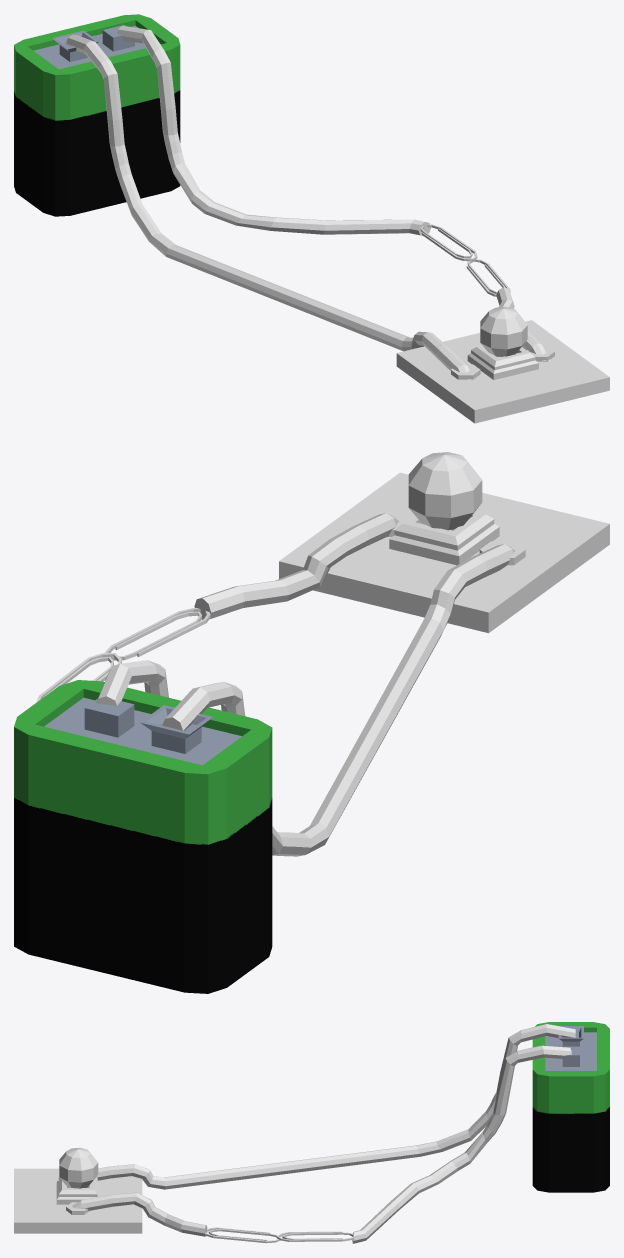
3 views of the same model, one above another, from view 1: azimuth 30°, elevation 25°; view 2: azimuth 150°, elevation 25°; view 3: azimuth 270°, elevation 25° (orthographic). The views are drawn at different scales.
Visible parts, largest first — view 1: Battery, Cube, Cylinder, Cylinder.001, Sphere, Sundetiras; view 2: Battery, Cube, Cylinder, Cylinder.001, Sphere, Sundetiras.001, Sundetiras; view 3: Battery, Cube, Cylinder, Cylinder.001, Sphere, Sundetiras.001, Sundetiras.
Boxes of the visible parts, x1,y1,x2,y2 form: Battery: (14,14,180,216); Cube: (396,320,609,423); Cylinder: (66,34,470,380); Cylinder.001: (117,25,549,360); Sphere: (480,307,527,356); Sundetiras: (420,224,477,261); Battery: (14,680,272,993); Cube: (279,472,609,633); Cylinder: (162,544,514,856); Cylinder.001: (96,513,399,705); Sphere: (408,452,482,530); Sundetiras.001: (104,608,210,660); Sundetiras: (36,653,121,702); Battery: (532,1022,609,1192); Cube: (14,1168,142,1233); Cylinder: (96,1024,575,1189); Cylinder.001: (66,1045,571,1243); Sphere: (59,1147,98,1188); Sundetiras.001: (205,1227,279,1243); Sundetiras: (276,1231,353,1241).
Size of the model in its own units: 406 by 228 by 929.
